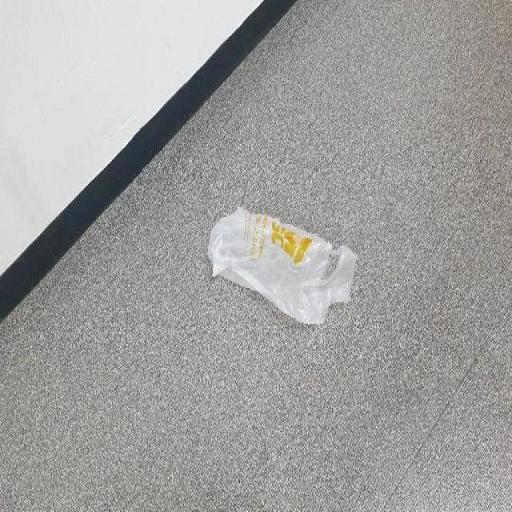plastic-bag: (206, 204, 358, 330)
